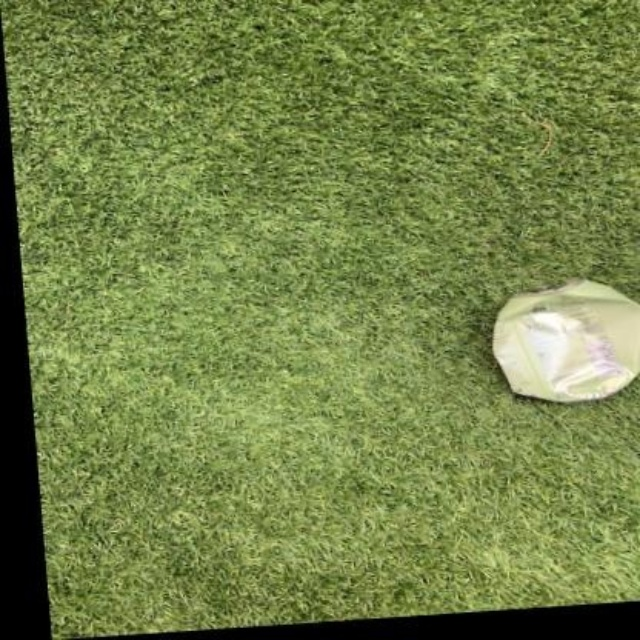trash: (492, 280, 638, 400)
